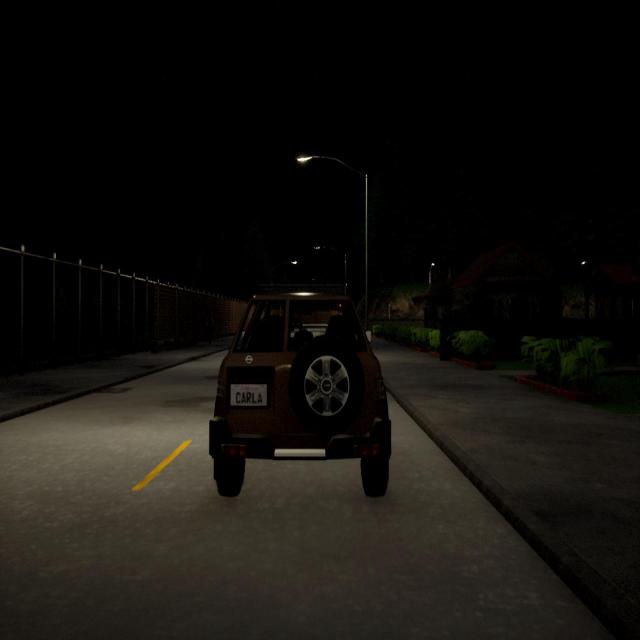Pedestrian: (207, 312, 214, 349)
Vehicle: (209, 291, 391, 497)
traffic_light: (338, 303, 342, 313)
